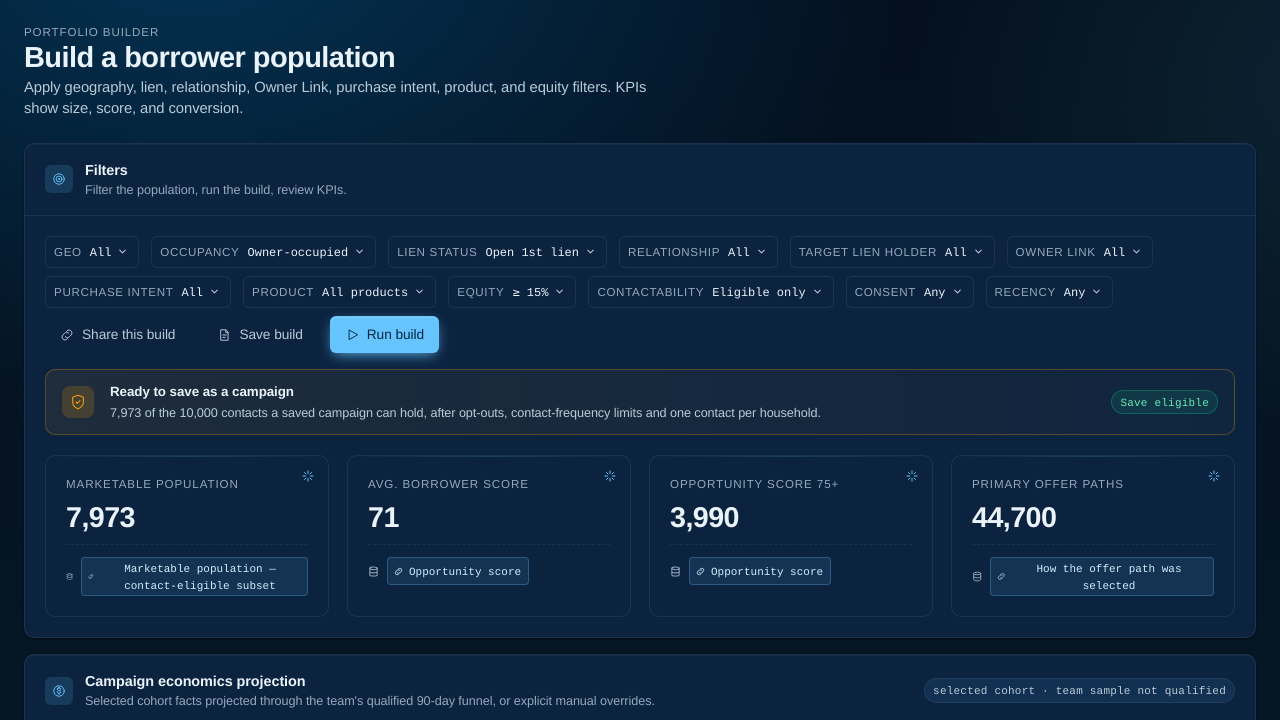
Test: PortfolioBuilder save-build flow › keeps Save unavailable while a changed build replaces stale preview data
Click the dropdown labelled "OCCUPANCY Owner-occupied": coordinates (264, 252) left=151, top=236, right=376, bottom=268
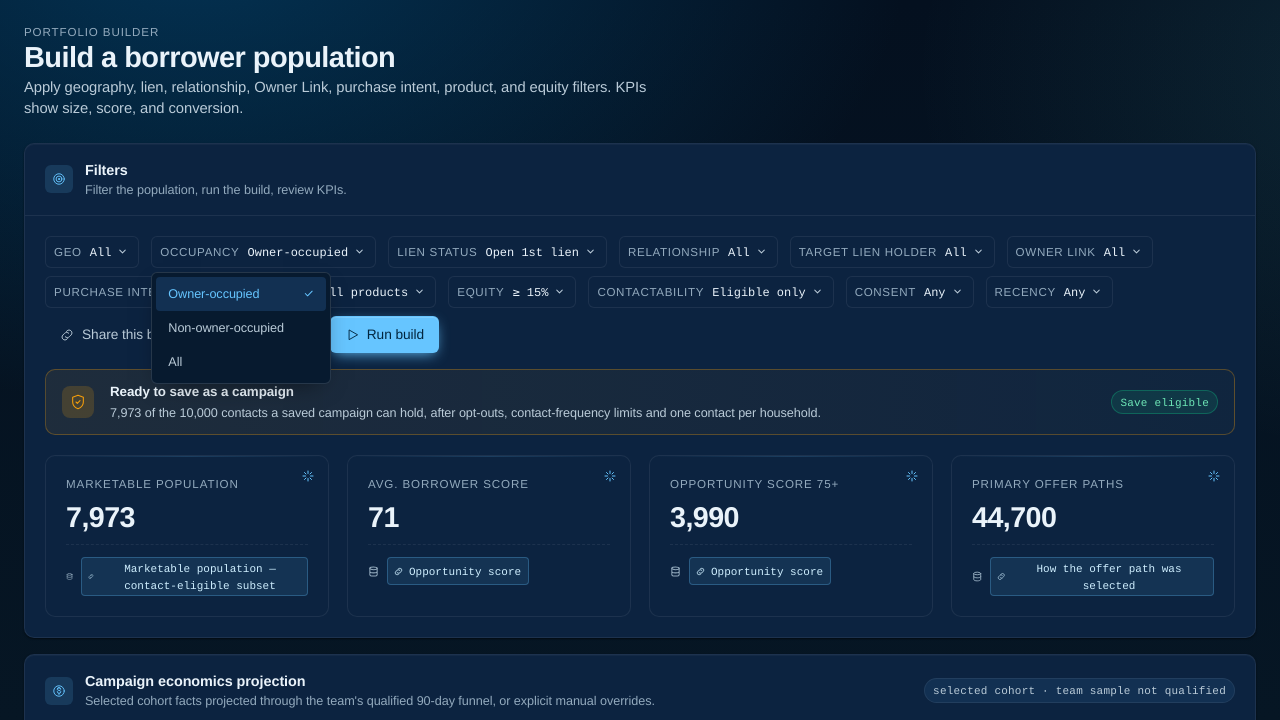
Click the option "Non-owner-occupied": coordinates (226, 328) left=168, top=320, right=284, bottom=336
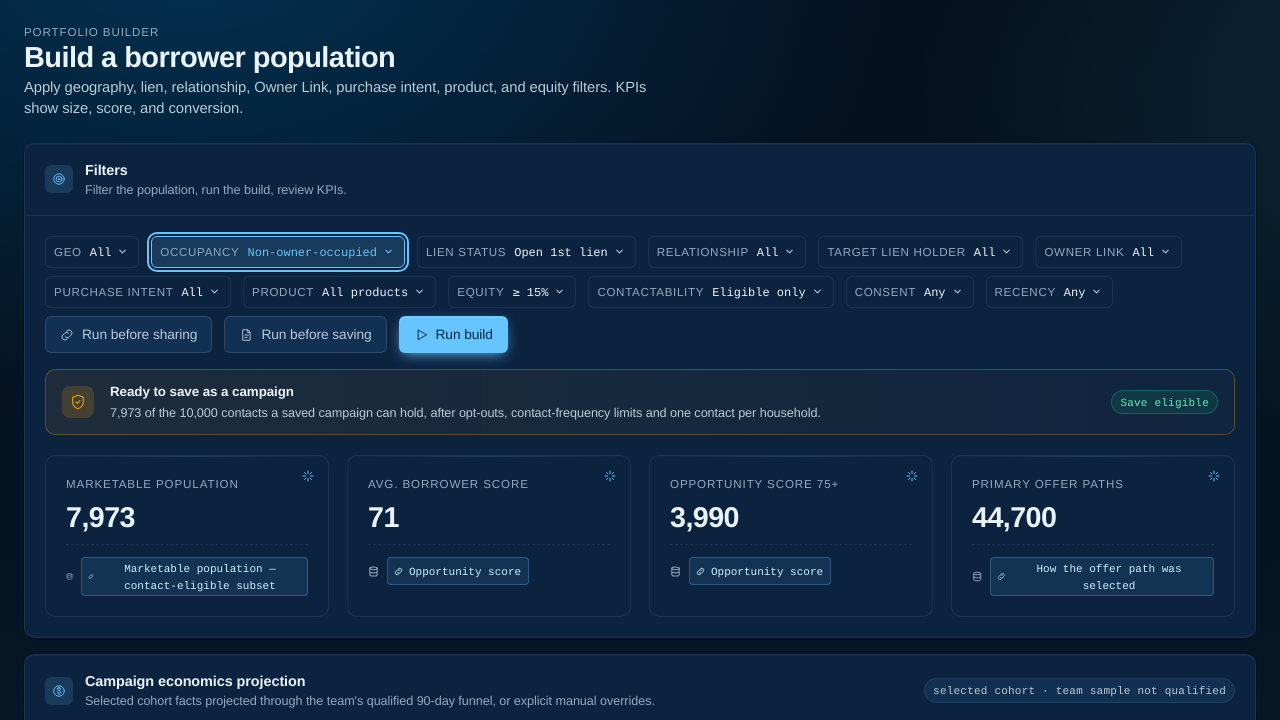
Expected: the button with test id "portfolio-save-build" is disabled, left=224, top=316, right=386, bottom=353
Expected: the button with test id "portfolio-save-build" reads "Run before saving", left=224, top=316, right=386, bottom=353
Click the button "Run build": coordinates (453, 335) left=398, top=316, right=508, bottom=353
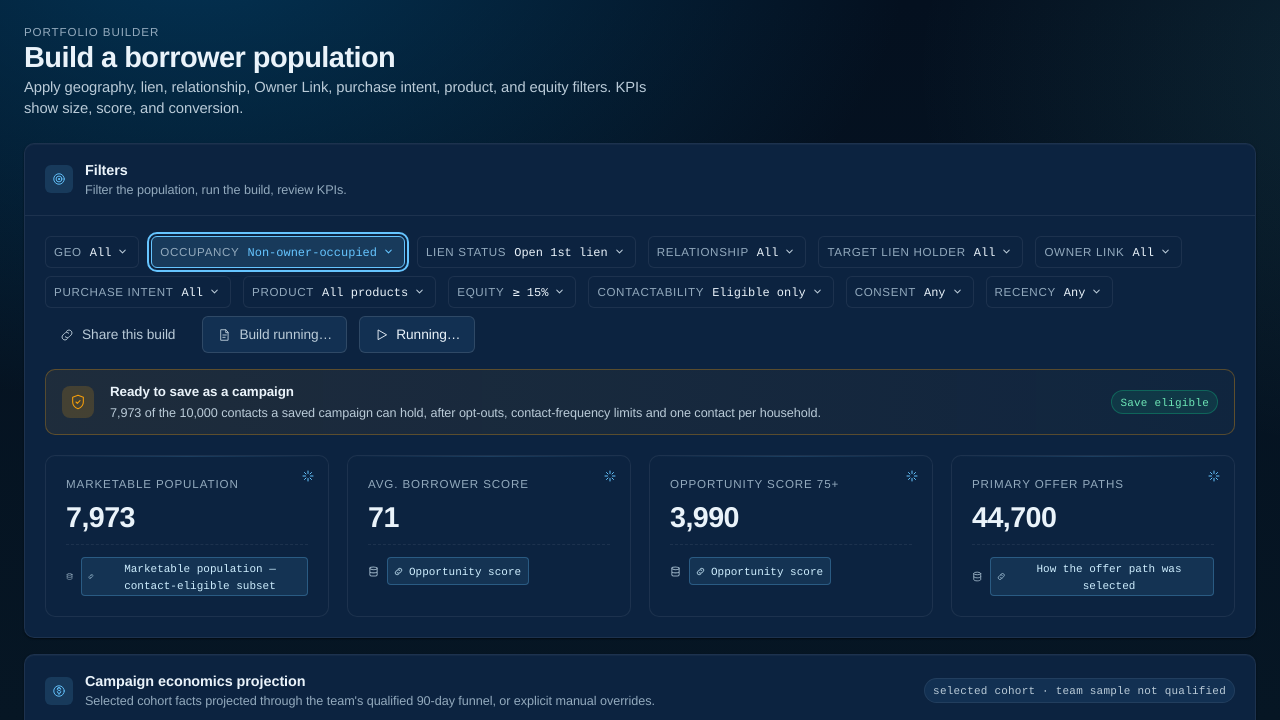
Expected: the button "Build running…" is disabled
Expected: the button "Build running…" is shown
Click the button "Build running…": coordinates (275, 335) left=202, top=316, right=347, bottom=353
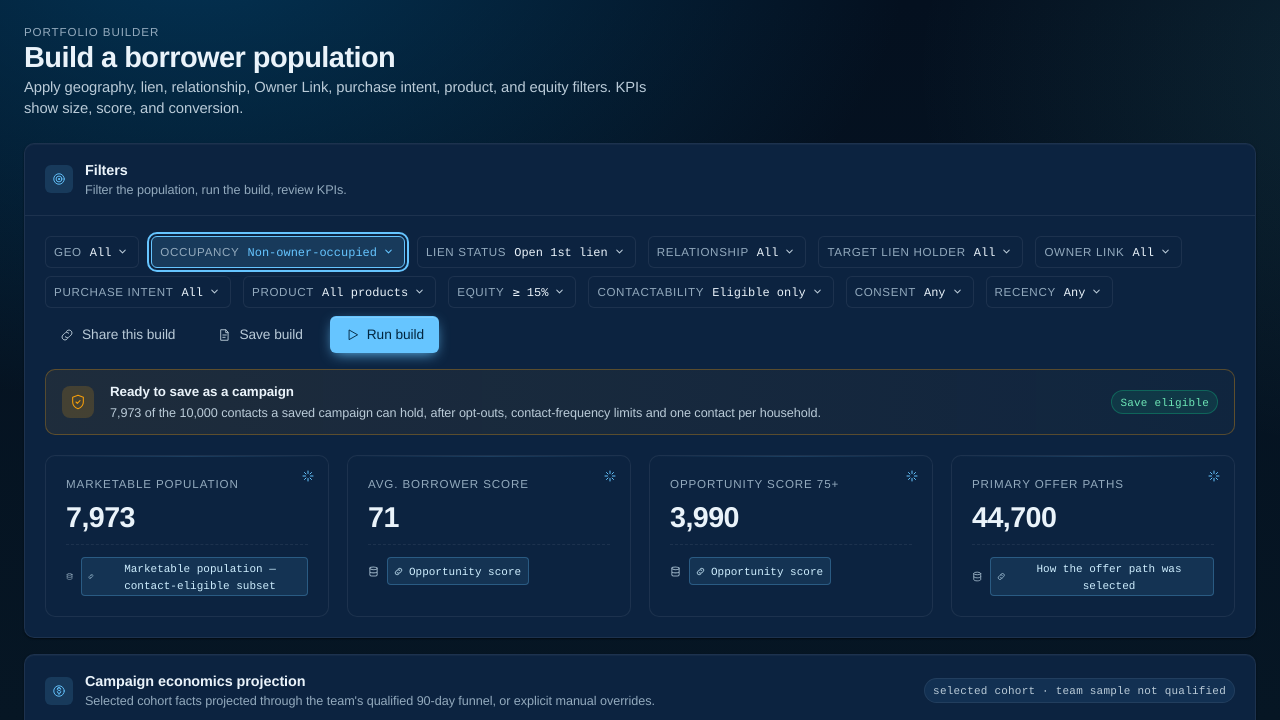
Expected: the button "Save build" is shown, left=202, top=316, right=318, bottom=353
